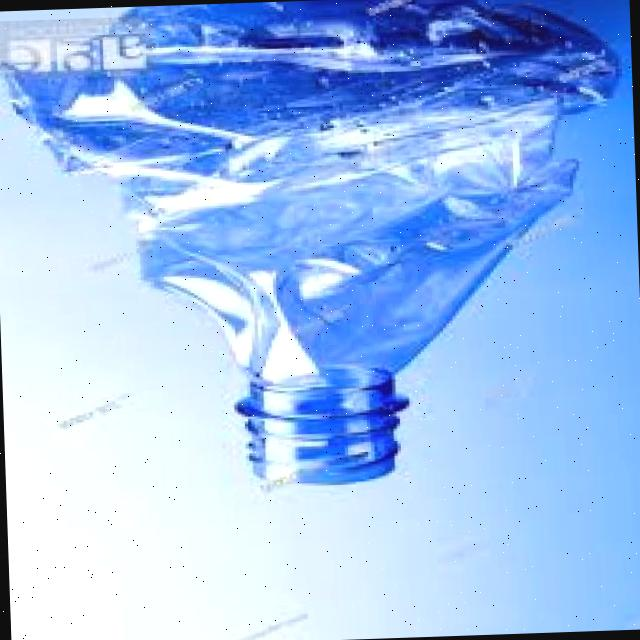bottle: (0, 0, 634, 528)
